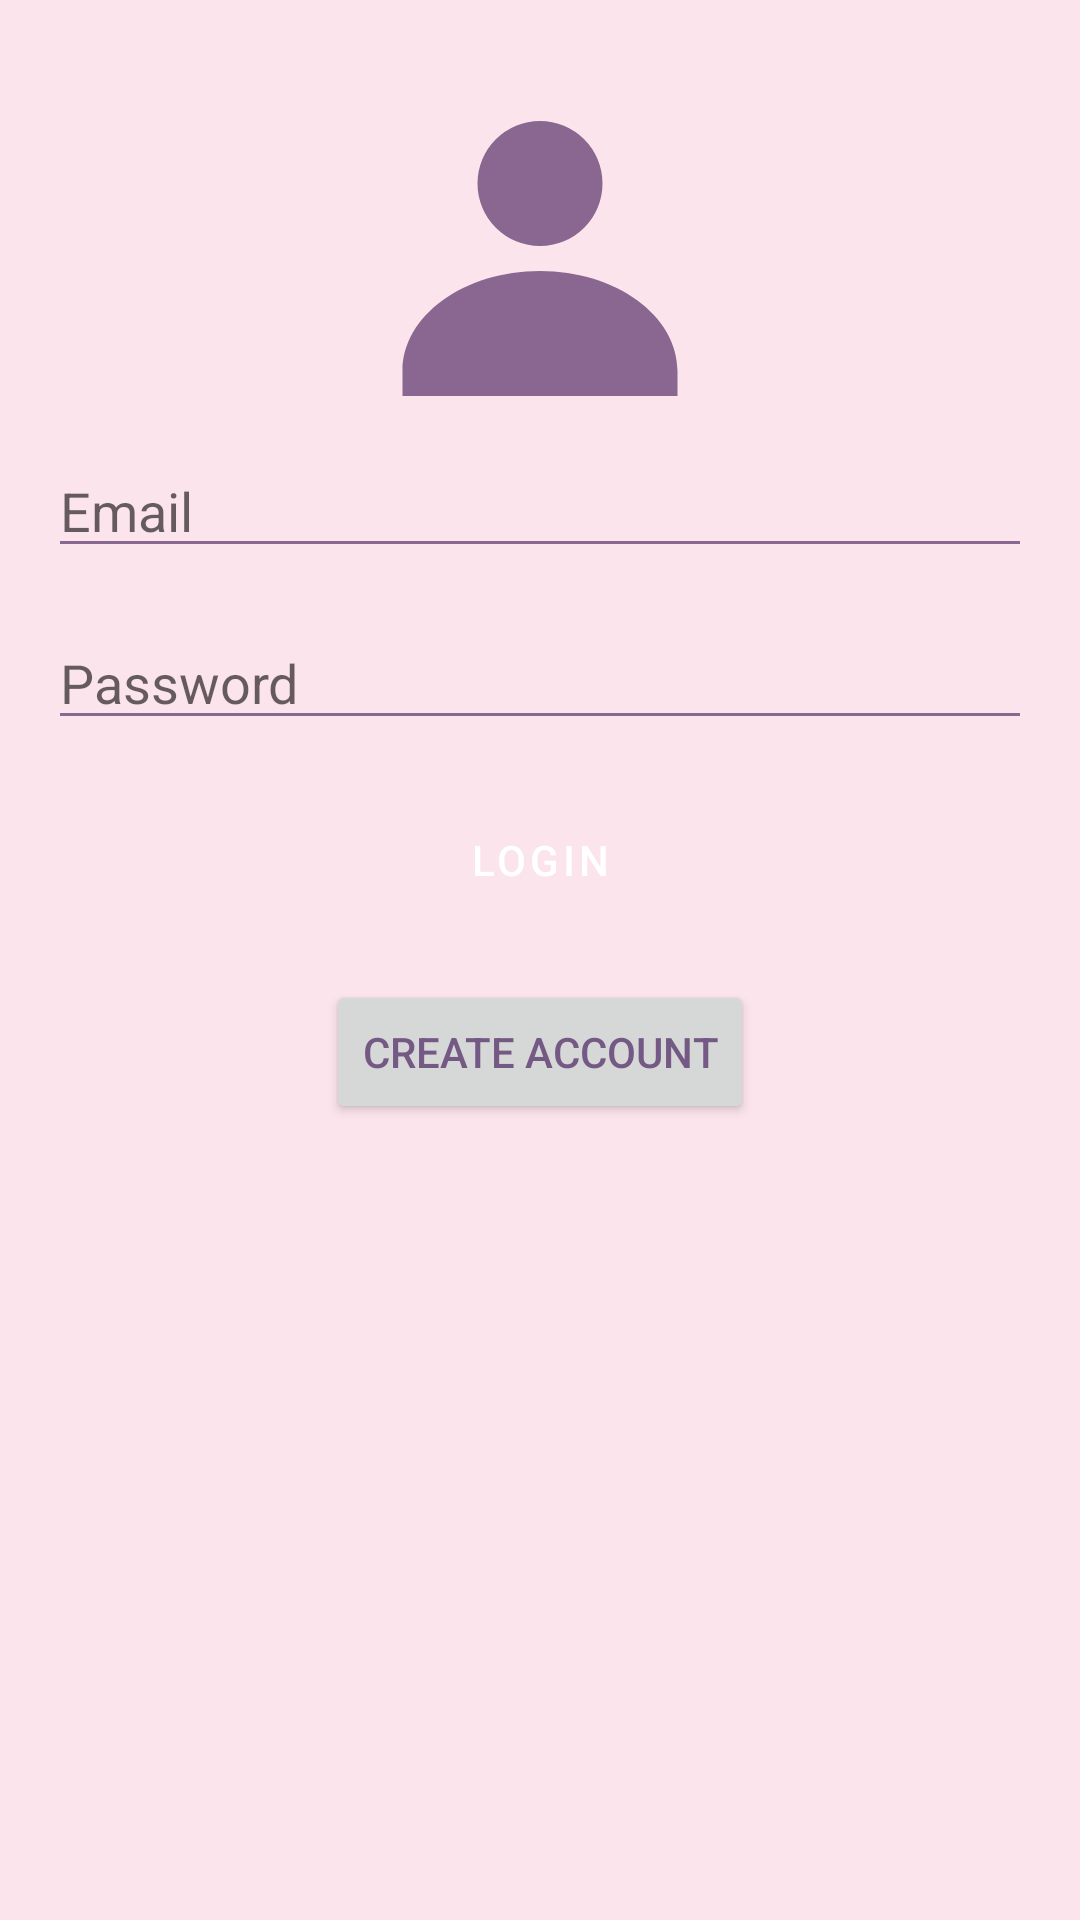

Icons on this 1080 × 1920 Android screen, each with its box as bbox(x1, y1, x2, y2):
person: bbox(402, 121, 678, 396)
